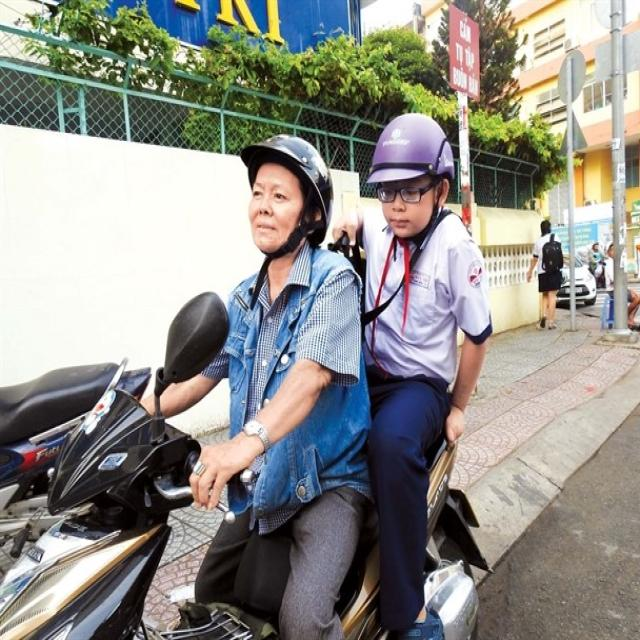1-2-helmet: (240, 133, 335, 239), (364, 112, 455, 185)
